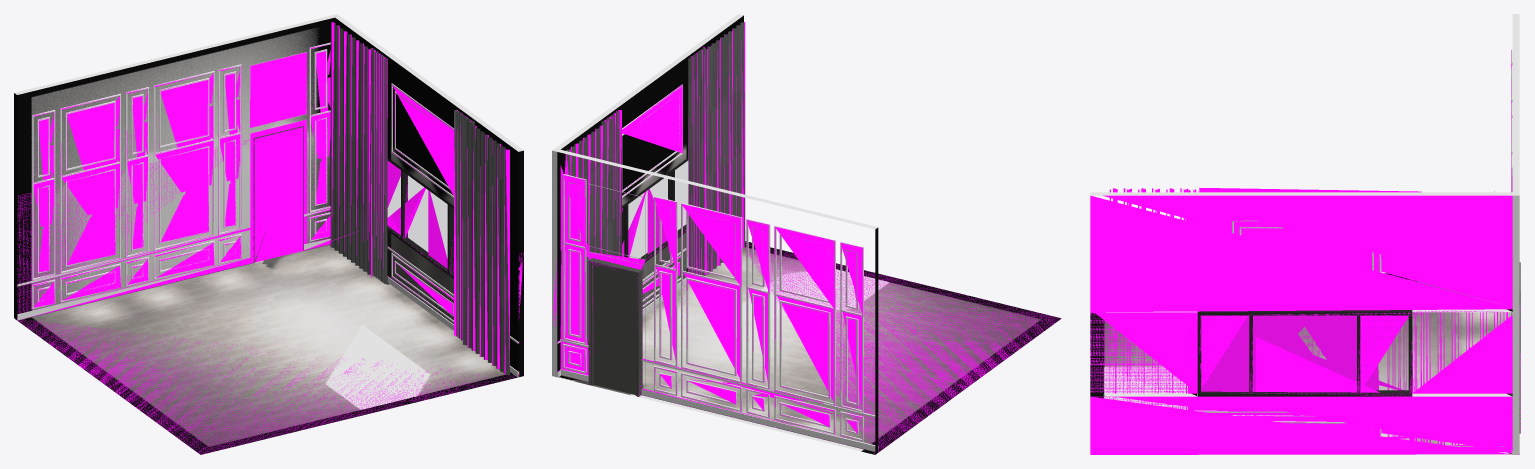
File: boxroom.glb
3 views of the same model, side by side, from view 1: azimuth 30°, elevation 25°; view 2: azimuth 150°, elevation 25°; view 3: azimuth 270°, elevation 25° (orthographic). The views are drawn at different scales.
Parts seen in each view (by area): view 1: bake_bedroom_texture_scene_Room; view 2: bake_bedroom_texture_scene_Room; view 3: bake_bedroom_texture_scene_Room.
Boxes of the visible parts, x1,y1,x2,y2 form: bake_bedroom_texture_scene_Room: (14,14,523,454); bake_bedroom_texture_scene_Room: (552,14,1061,454); bake_bedroom_texture_scene_Room: (1090,14,1520,454).
Size of the model in its own units: 6 by 4 by 6.02.
9 materials, 4 textured.
